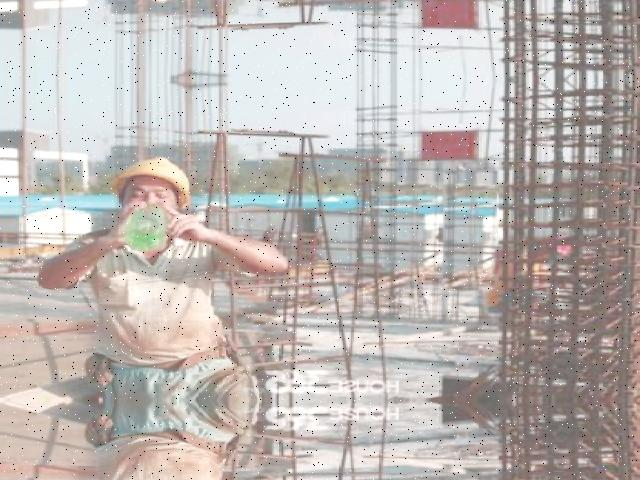Helmet: (110, 152, 202, 214)
